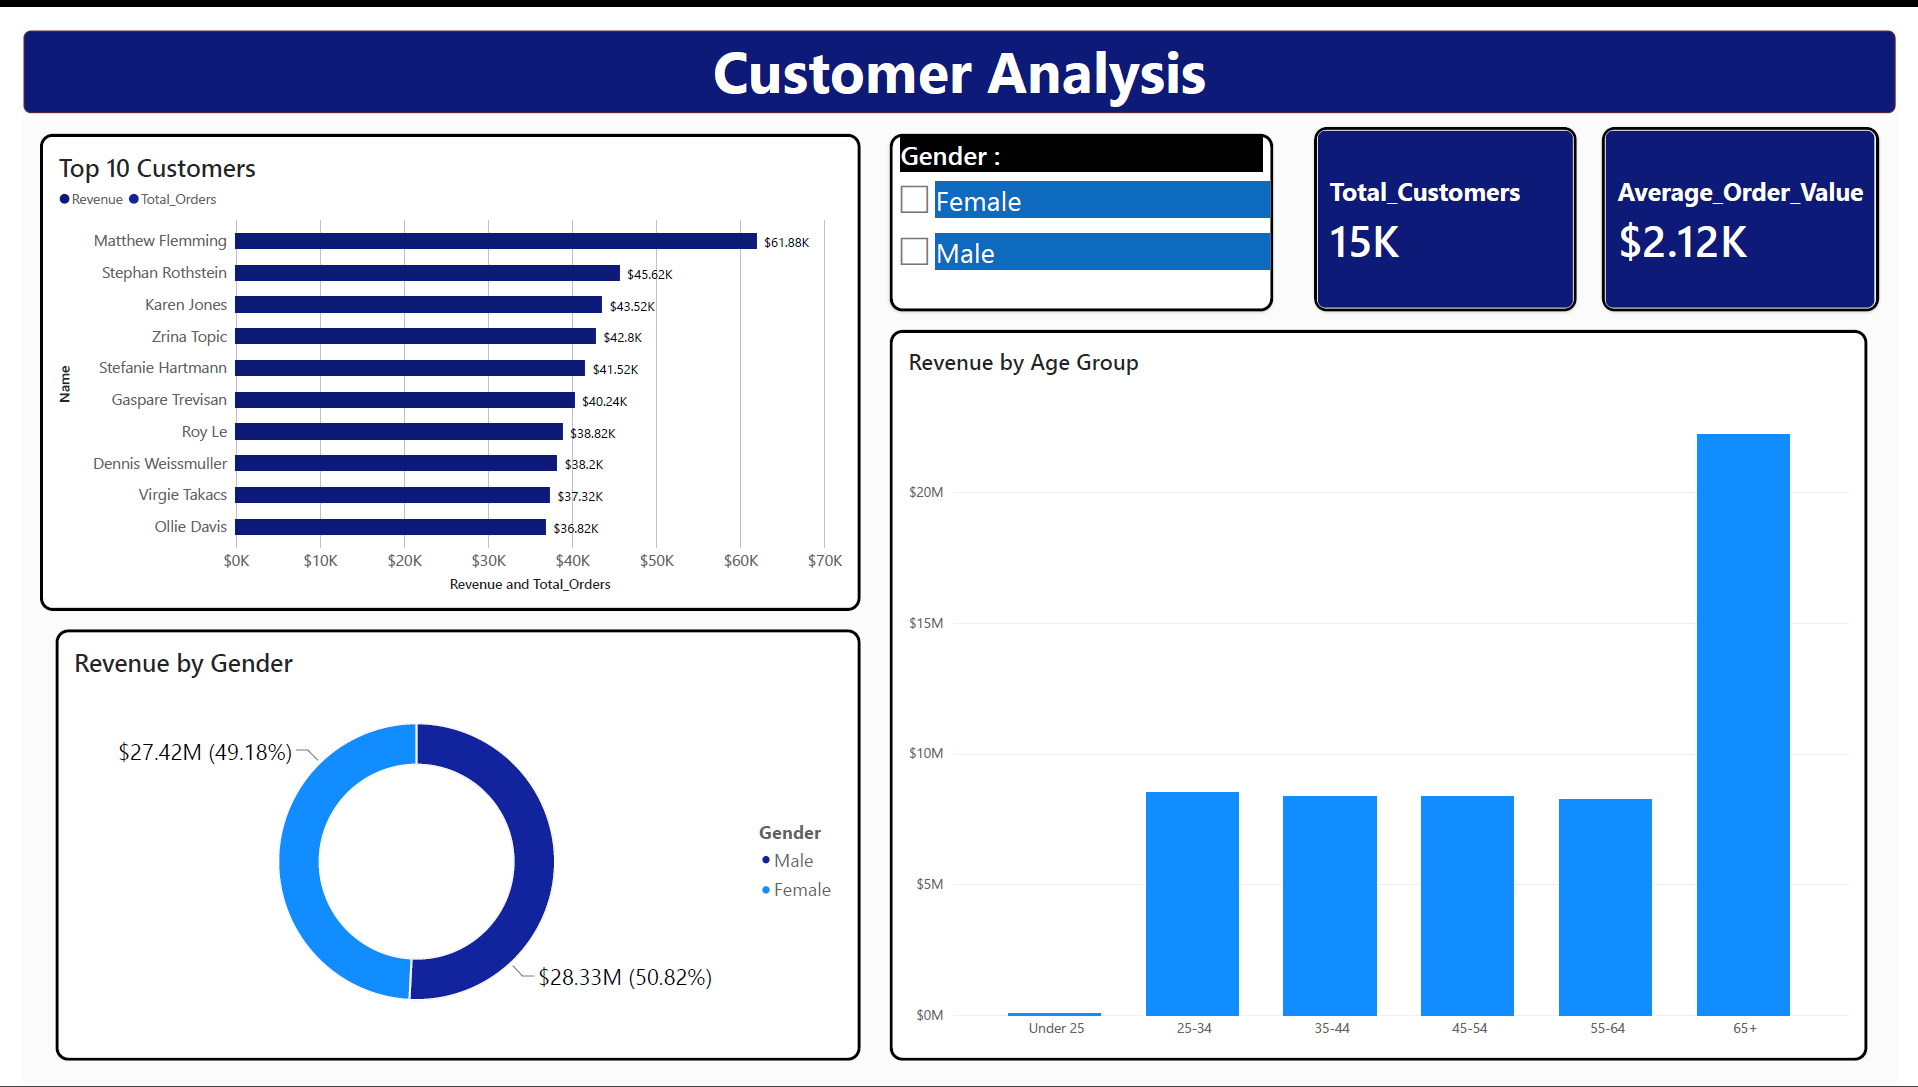

Layout of this report page (visuals, bound fields, positions):
{"tool":"powerbi","page":{"name":"Customer Analysis","canvas":[1920,1080],"ordinal":2},"visuals":[{"type":"textbox","box":[0,0,1919.4,85],"z":1000},{"type":"cardVisual","fields":{"Data":["Customers.Total_Customers"]},"box":[1323.1,99.2,269.3,189],"z":3000},{"type":"cardVisual","fields":{"Data":["Sales_Exchage_Merge.Average_Order_Value"]},"box":[1618.4,99.2,283.5,189],"z":4000},{"type":"donutChart","fields":{"Category":["Customers.Gender"],"Y":["Sales_Exchage_Merge.Revenue"]},"box":[33.1,614.3,824.6,441.8],"z":5000},{"type":"clusteredColumnChart","title":"Revenue by Age Group","fields":{"Category":["Customers.Age","Customers.Age_Group"],"Y":["Sales_Exchage_Merge.Revenue"]},"box":[888.3,307.1,1001.8,749],"z":5001},{"type":"slicer","fields":{"Values":["Customers.Gender"]},"box":[888.3,106.3,392.2,181.9],"z":5002},{"type":"barChart","title":"Top 10 Customers","fields":{"Category":["Customers.Name"],"Y":["Sales_Exchage_Merge.Revenue","Sales_Exchage_Merge.Total_Orders"]},"box":[16.5,106.3,841.1,489.1],"z":5003}]}

Visuals, with their boxes in screenshot pixels (x1, y1, x2, y2), scaled from the page's 1920x1080 canvas onto the 1918x1087 screenshot:
textbox: bbox=[0, 0, 1917, 86]
cardVisual - Customers.Total_Customers: bbox=[1322, 100, 1591, 290]
cardVisual - Sales_Exchage_Merge.Average_Order_Value: bbox=[1617, 100, 1900, 290]
donutChart - Customers.Gender x Sales_Exchage_Merge.Revenue: bbox=[33, 618, 857, 1063]
"Revenue by Age Group" clusteredColumnChart: bbox=[887, 309, 1888, 1063]
slicer - Customers.Gender: bbox=[887, 107, 1279, 290]
"Top 10 Customers" barChart: bbox=[16, 107, 857, 599]
